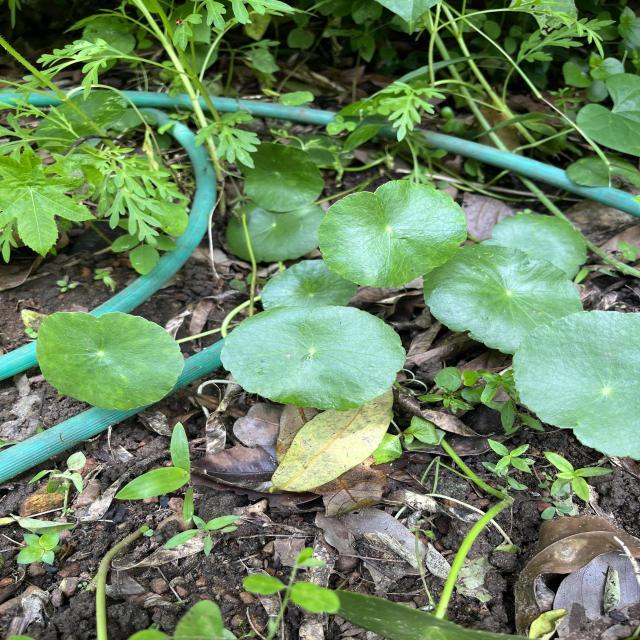Bacopa monnieri: (218, 303, 408, 413), (510, 308, 640, 464), (422, 242, 586, 356), (316, 178, 469, 289), (35, 310, 187, 413), (476, 212, 588, 281), (259, 258, 359, 312)
